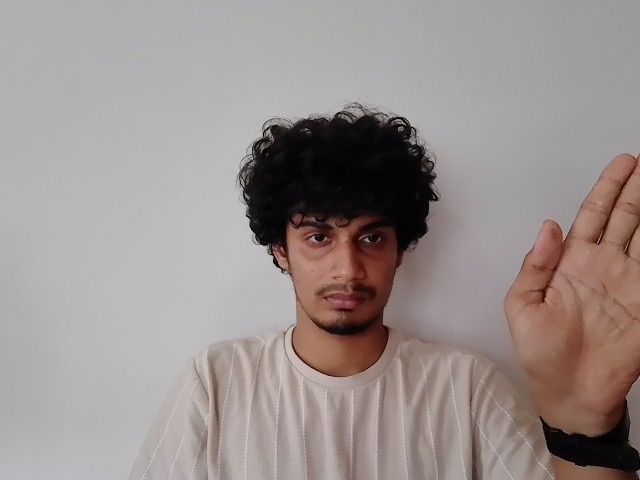hello: (503, 153, 640, 394)
